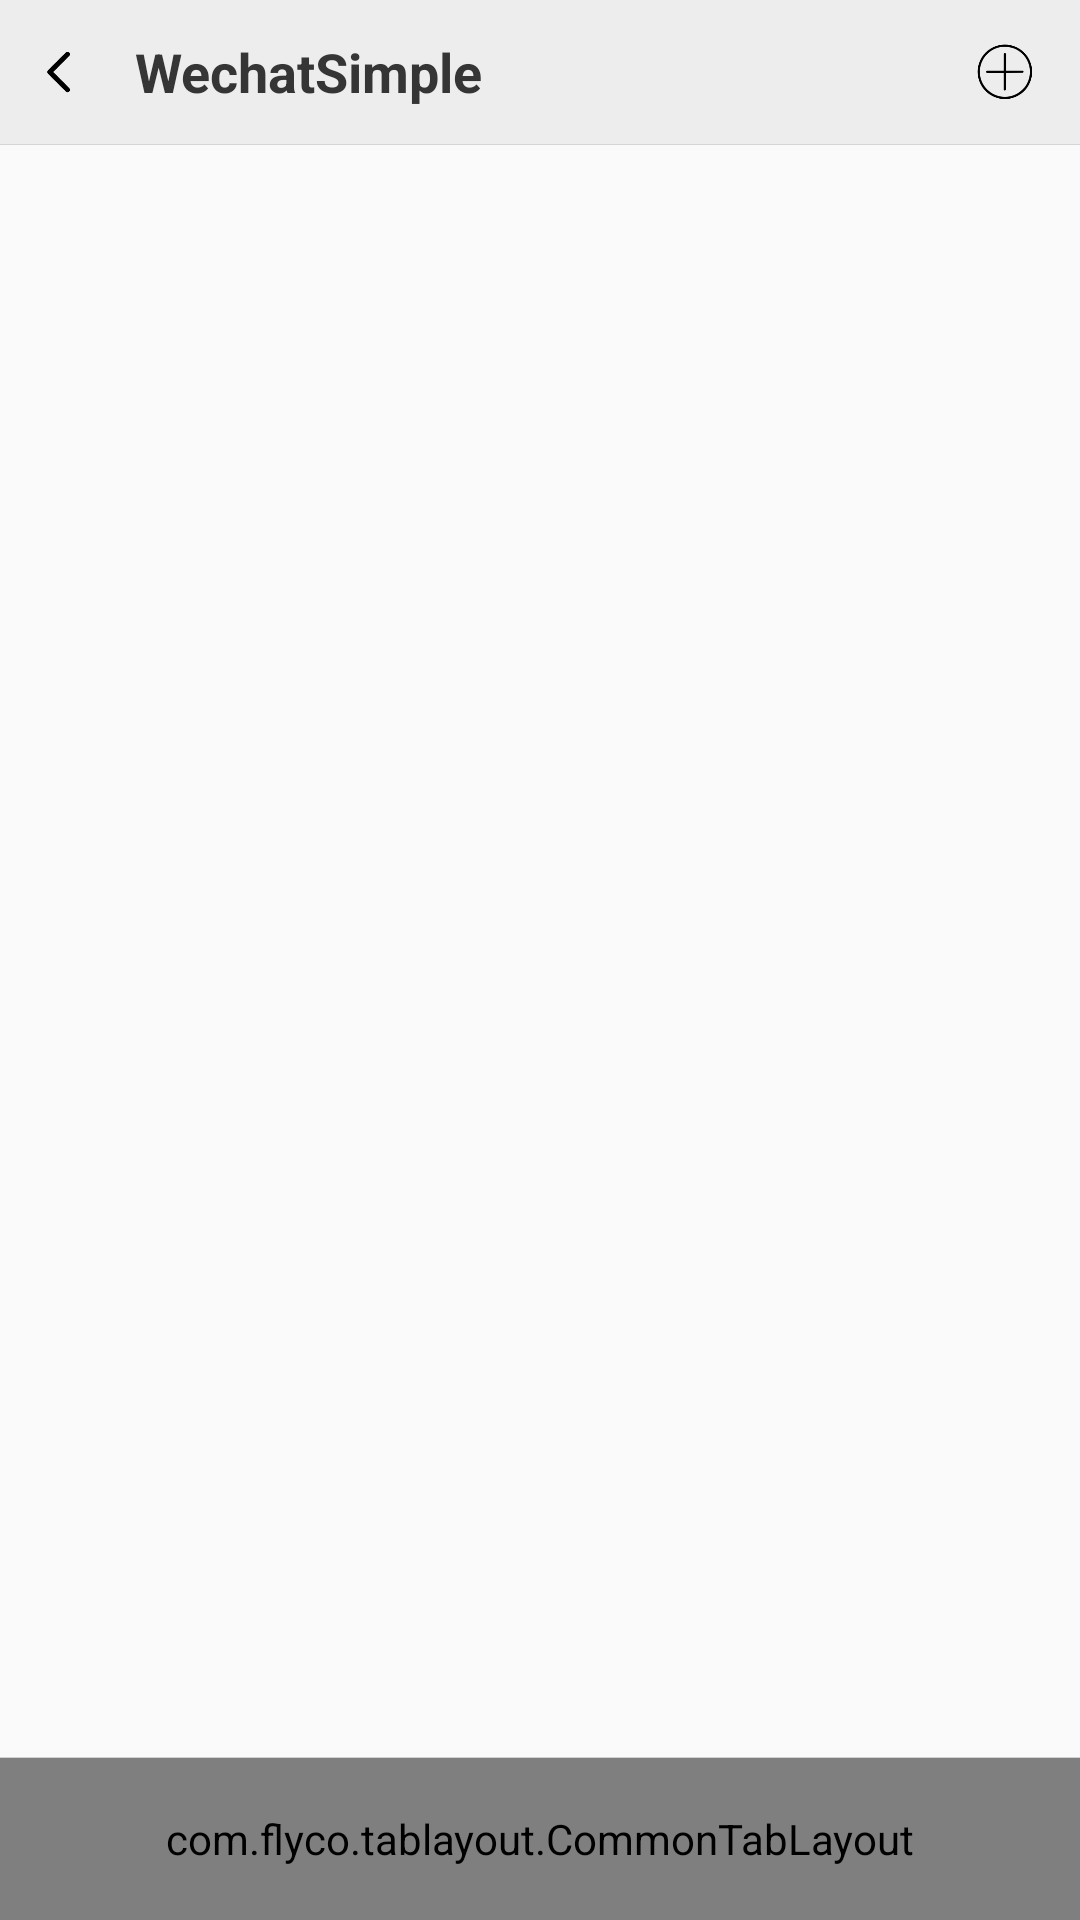

Named icons in this screenshot (1080 × 1920) and their bounding boxes, (x1, y1, x2, y2):
add: (977, 44, 1032, 99)
back: (47, 52, 70, 93)
